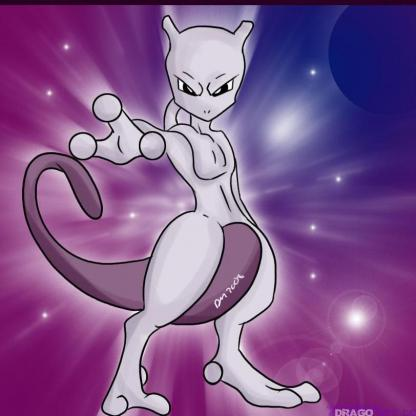Mewtwo: (18, 1, 416, 416)
